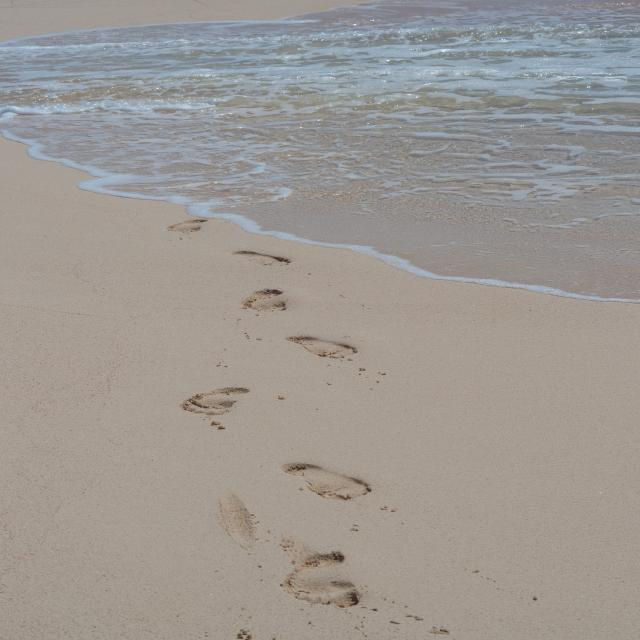human_footprint: (162, 375, 403, 640)
